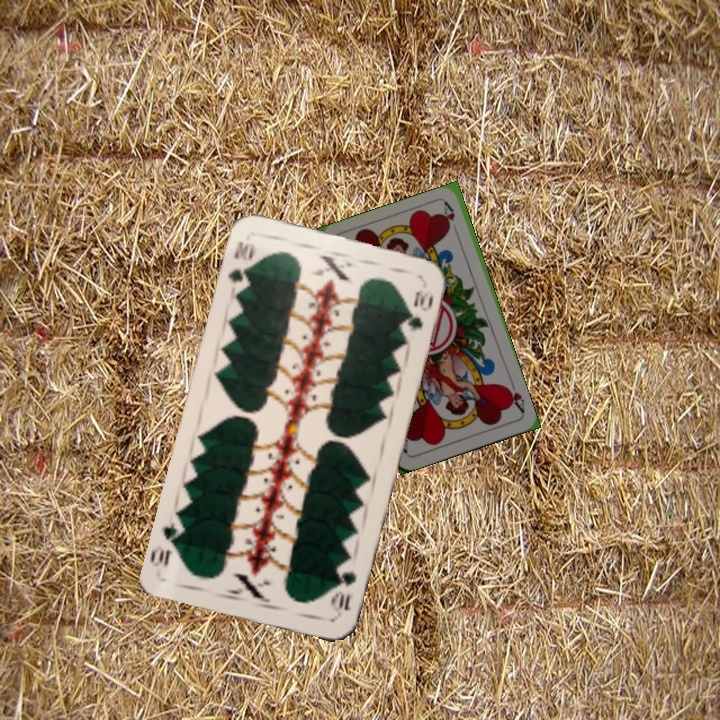G10: (223, 237, 257, 294), (328, 567, 359, 620)
HA: (501, 377, 527, 416)
